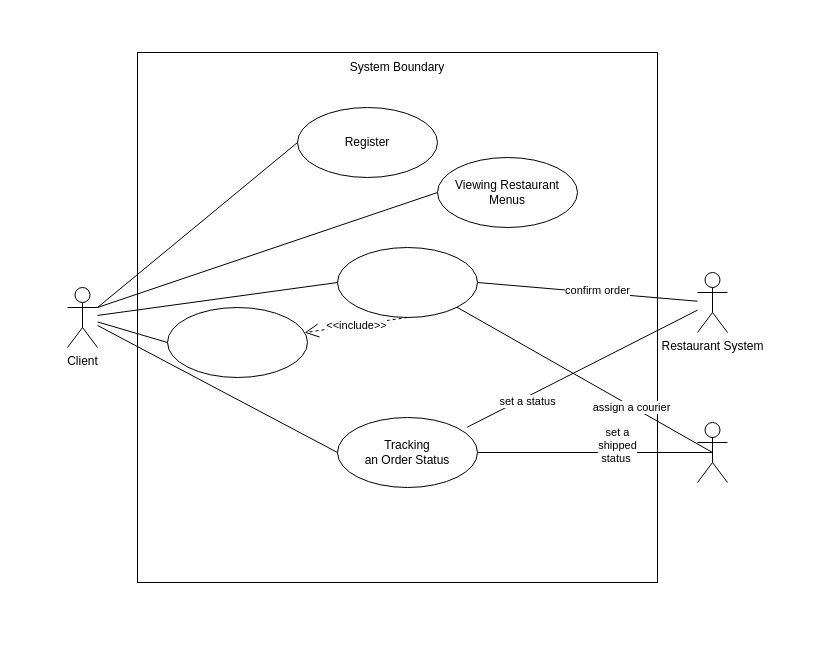
Some shapes in this 814 by 654 pixel diagram are drawn without their labels. Each missing label, with the centre of its shape:
Courier System: pixel 712 452
Make an Order: pixel 407 282
Pay for an Order: pixel 237 342
